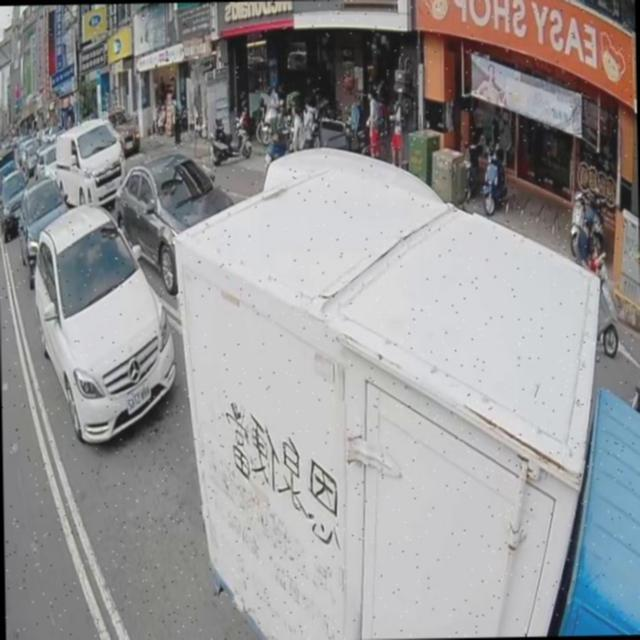person: (574, 206, 604, 270), (366, 89, 385, 159), (389, 85, 404, 166), (289, 100, 308, 152), (487, 104, 502, 157), (267, 88, 281, 138), (303, 104, 318, 150), (379, 80, 389, 139), (173, 96, 182, 146)
